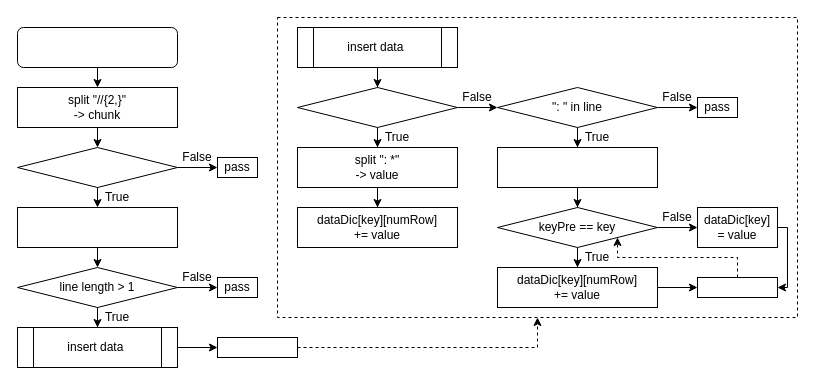
The diagram is 815 pixels wide and 385 high, and some of its shapes have lost their labels. The centre of each missing label's shape, as x and y in pixels:
"TITLE" in chunk: (97,167)
key -> keyPre: (737,287)
line[0] == " ": (377,107)
numRow += 1: (257,347)
page text: (97,47)
split ": *" -> key, value: (577,167)
split "\n" -> line: (97,227)
